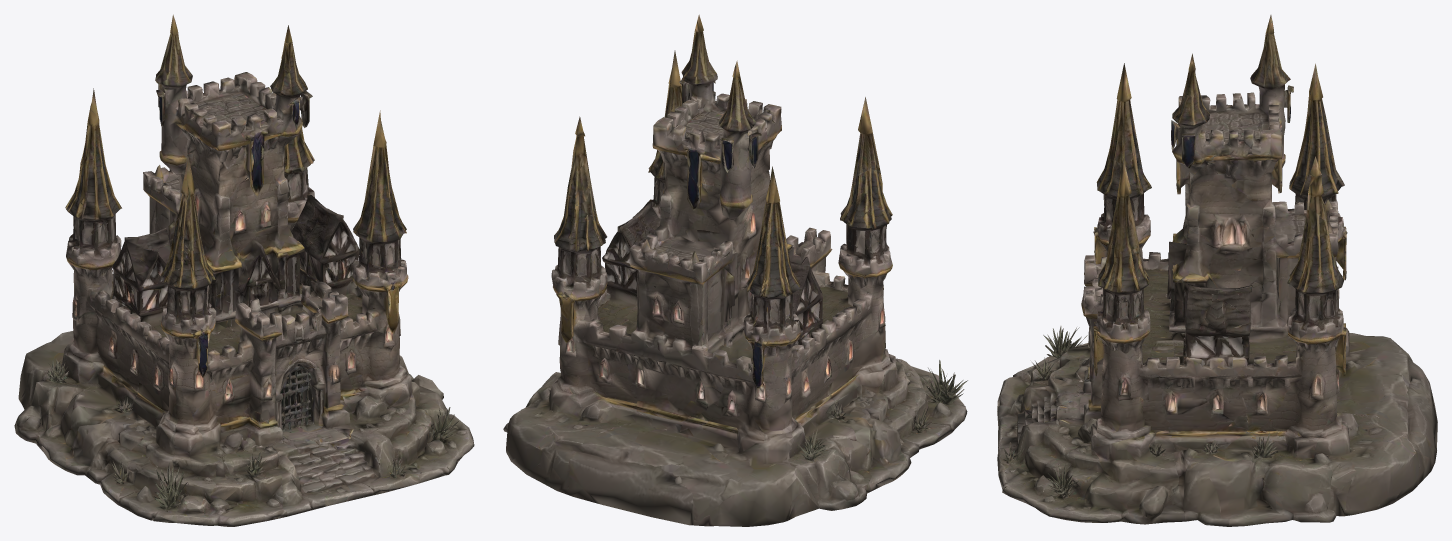
The model's file is castle.glb.
3 views of the same model, side by side, from view 1: azimuth 30°, elevation 25°; view 2: azimuth 150°, elevation 25°; view 3: azimuth 270°, elevation 25° (orthographic). The views are drawn at different scales.
Size of the model in its own units: 1.76 by 1.9 by 1.86.
Materials: 1 (1 with a texture image).
